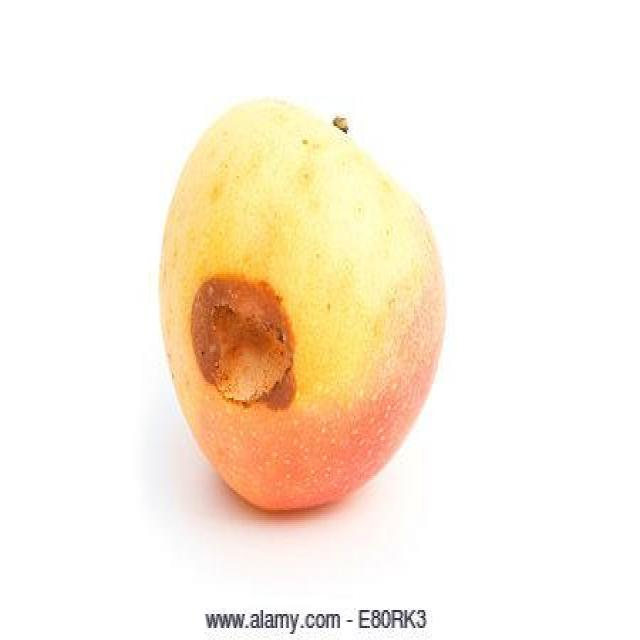Rotten: (165, 106, 441, 514)
